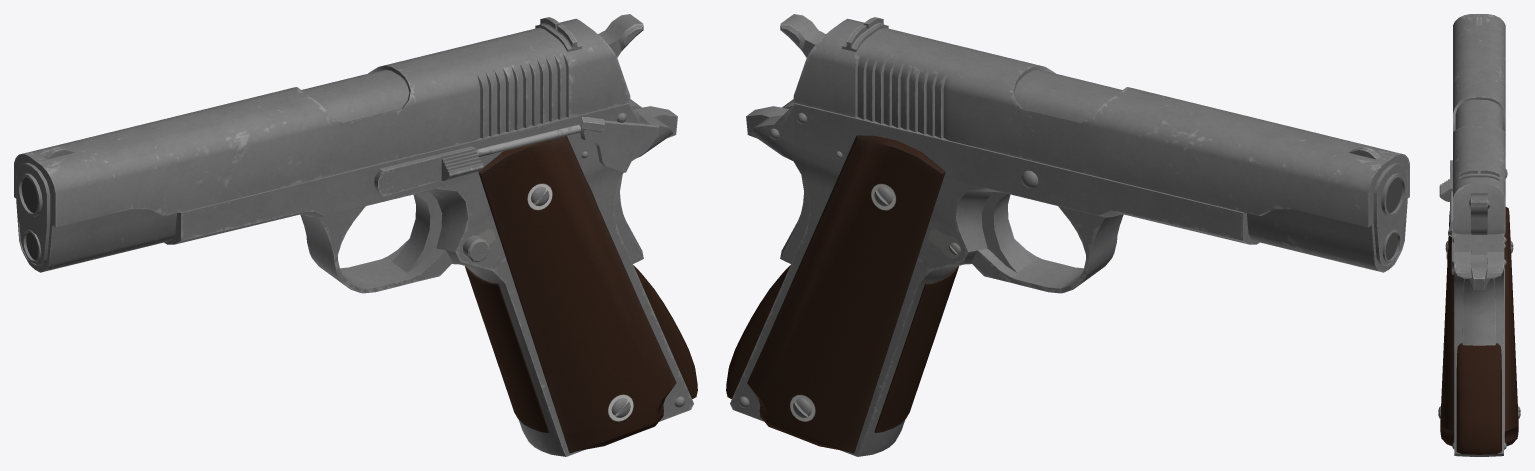
Rendered from Colt_1911_Pistol.glb.
3 views of the same model, side by side, from view 1: azimuth 30°, elevation 25°; view 2: azimuth 150°, elevation 25°; view 3: azimuth 270°, elevation 25° (orthographic). The views are drawn at different scales.
Parts seen in each view (by area): view 1: Cube_1_2_Pistol_0, Leather_Pistol_0, Cube_6_Pistol_0, Cube_1_3_Pistol_0, Cube_3_2_Pistol_0, Cube_Pistol_0, Cube_2_2_Pistol_0, Tube_1_Pistol_0, Cube_4_Pistol_0, Cube_1_remesh_Pistol_0, Cube_1_Pistol_0, Cube_3_Pistol_0 (+2 smaller); view 2: Cube_1_2_Pistol_0, Leather_Pistol_0, Cube_6_Pistol_0, Cube_1_3_Pistol_0, Cube_3_2_Pistol_0, Tube_1_Pistol_0, Cube_4_Pistol_0, Cube_1_remesh_Pistol_0, Cube_1_Pistol_0, Cube_3_Pistol_0, Cube_2_Pistol_0; view 3: Cube_1_2_Pistol_0, Cube_1_remesh_Pistol_0, Leather_Pistol_0, Cube_6_Pistol_0, Cube_1_Pistol_0, Cube_3_Pistol_0, Cube_2_Pistol_0, Cube_Pistol_0, Cube_2_2_Pistol_0, Sphere_Pistol_0.
Boxes of the visible parts, box(x1,y1,x2,y2) form: Cube_1_2_Pistol_0: box(14, 18, 630, 272); Leather_Pistol_0: box(478, 136, 676, 453); Cube_6_Pistol_0: box(164, 99, 693, 456); Cube_1_3_Pistol_0: box(300, 206, 452, 293); Cube_3_2_Pistol_0: box(465, 266, 549, 432); Cube_Pistol_0: box(374, 146, 483, 196); Cube_2_2_Pistol_0: box(580, 120, 658, 172); Tube_1_Pistol_0: box(16, 162, 50, 266); Cube_4_Pistol_0: box(392, 192, 442, 272); Cube_1_remesh_Pistol_0: box(633, 265, 697, 398); Cube_1_Pistol_0: box(614, 106, 677, 263); Cube_3_Pistol_0: box(598, 14, 643, 57); Cube_1_2_Pistol_0: box(793, 18, 1409, 272); Leather_Pistol_0: box(747, 135, 945, 453); Cube_6_Pistol_0: box(730, 99, 1259, 456); Cube_1_3_Pistol_0: box(971, 206, 1123, 293); Cube_3_2_Pistol_0: box(874, 266, 958, 432); Tube_1_Pistol_0: box(1373, 162, 1407, 266); Cube_4_Pistol_0: box(981, 192, 1031, 272); Cube_1_remesh_Pistol_0: box(726, 265, 790, 398); Cube_1_Pistol_0: box(746, 106, 809, 263); Cube_3_Pistol_0: box(780, 14, 825, 57); Cube_2_Pistol_0: box(842, 17, 888, 51); Cube_1_2_Pistol_0: box(1453, 14, 1505, 234); Cube_1_remesh_Pistol_0: box(1456, 343, 1501, 454); Leather_Pistol_0: box(1440, 207, 1518, 445); Cube_6_Pistol_0: box(1454, 233, 1504, 456); Cube_1_Pistol_0: box(1462, 262, 1495, 345); Cube_3_Pistol_0: box(1469, 195, 1489, 234); Cube_2_Pistol_0: box(1459, 169, 1499, 180); Cube_Pistol_0: box(1439, 160, 1452, 201); Cube_2_2_Pistol_0: box(1451, 231, 1454, 274); Sphere_Pistol_0: box(1452, 168, 1507, 449).
Bounding box in the file's own units: 0.7946 × 0.4814 × 0.1366.
2 materials, 1 textured.
